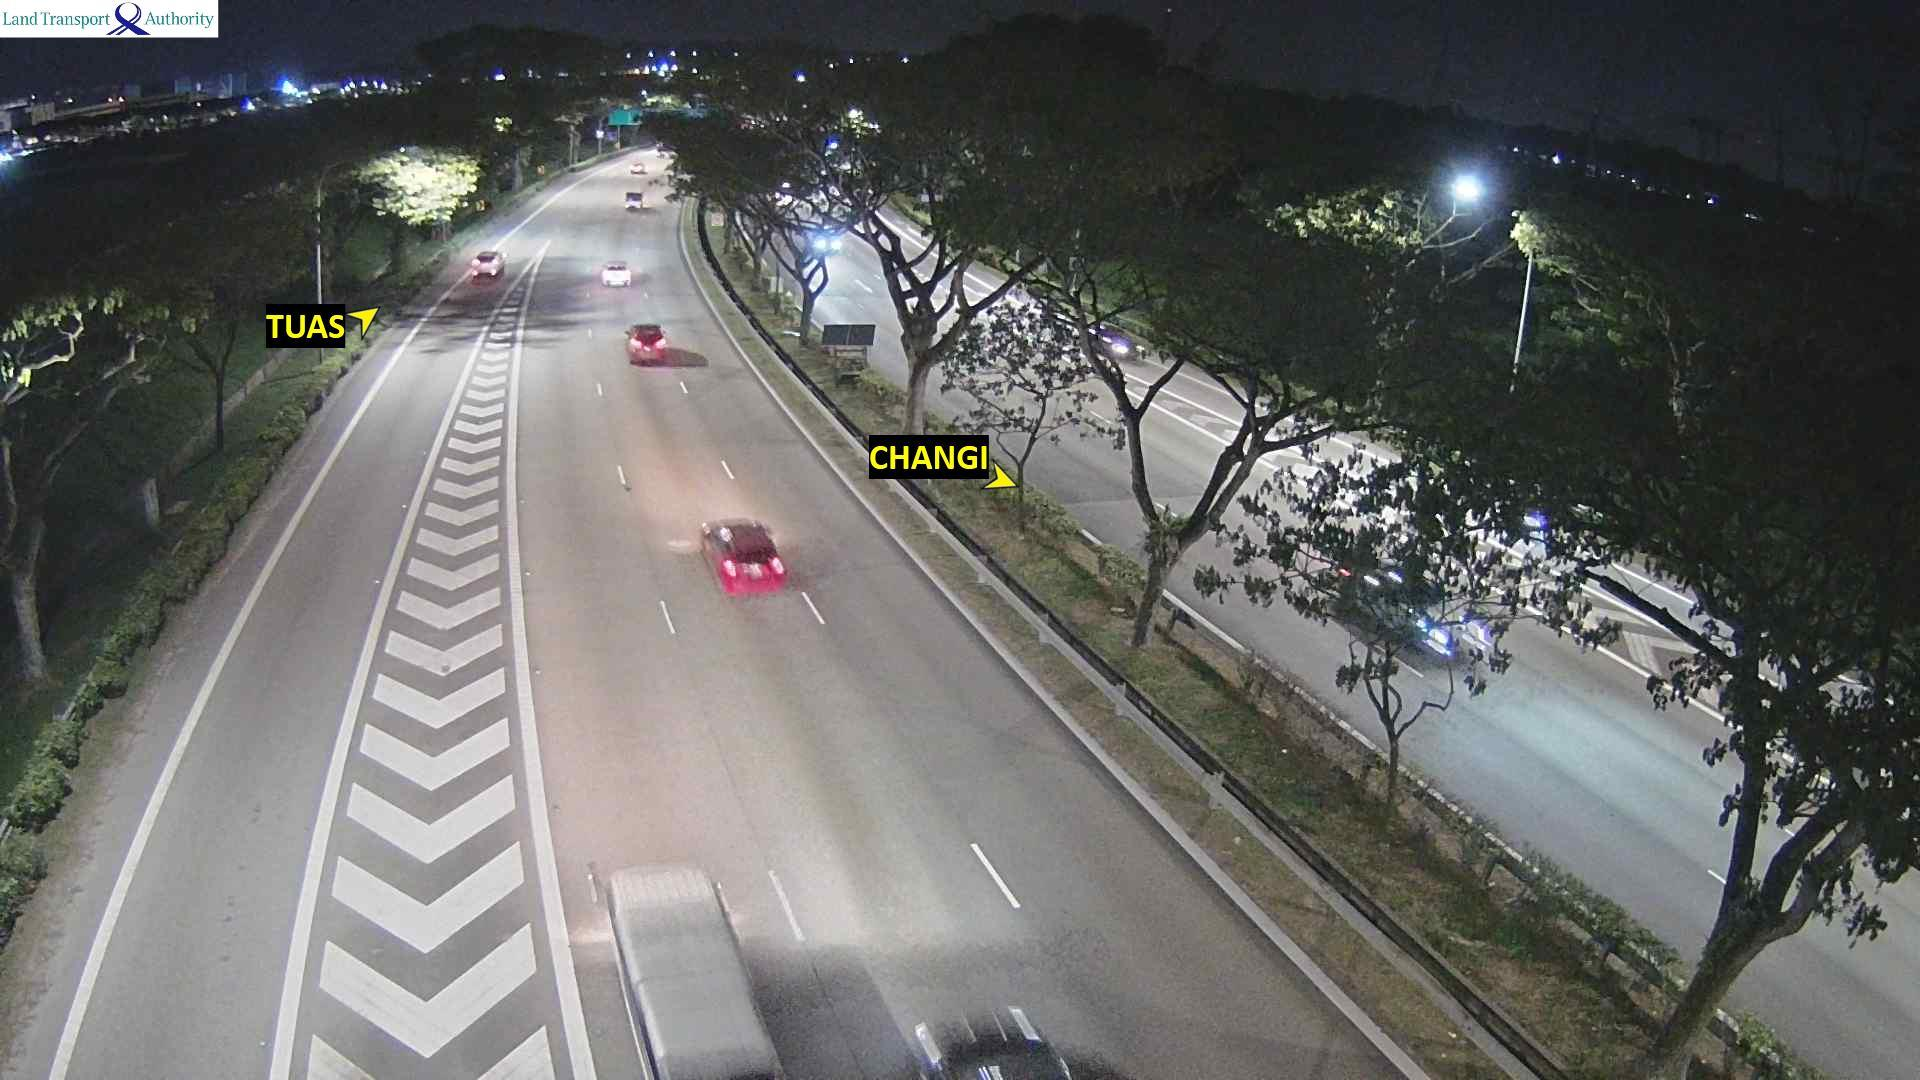incoming: (1097, 324, 1150, 363)
